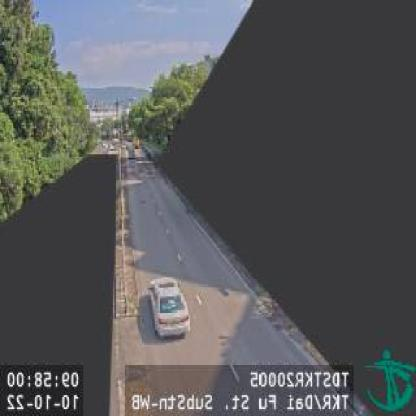Car: (146, 276, 192, 337)
